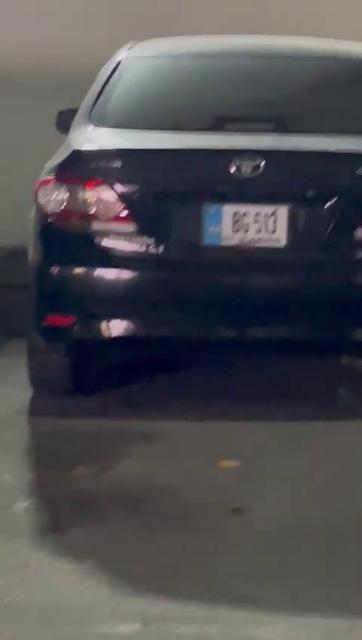plate: (198, 202, 288, 248)
